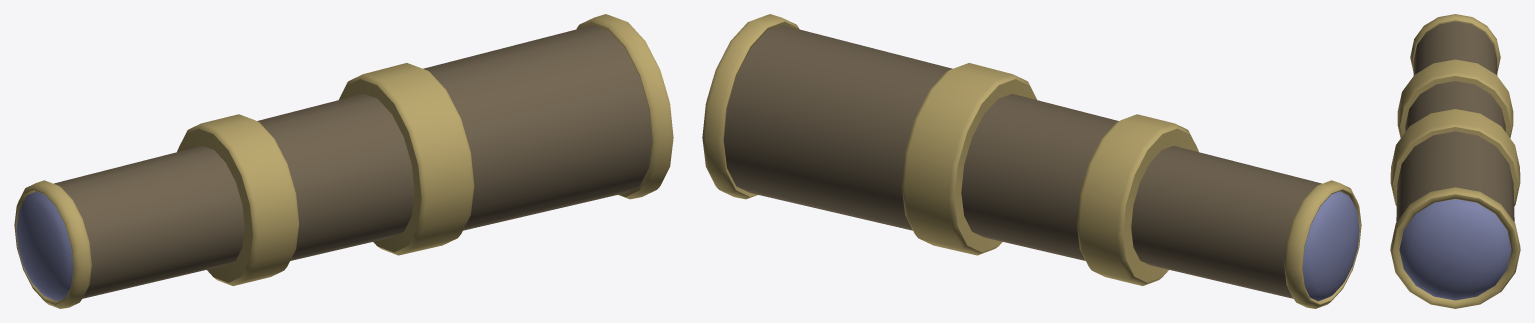
The model's file is Spyglass.fbx.
3 renders of one model, left to right at view 1: azimuth 30°, elevation 25°; view 2: azimuth 150°, elevation 25°; view 3: azimuth 270°, elevation 25°, orthographic. The views are drawn at different scales.
Visible parts, largest first — view 1: pSphere6; view 2: pSphere6; view 3: pSphere6.
Part boxes in pixels (left/top/right/bottom): pSphere6: left=14, top=14, right=673, bottom=308; pSphere6: left=702, top=14, right=1361, bottom=308; pSphere6: left=1390, top=14, right=1520, bottom=308.
Size of the model in its own units: 16.76 by 4.38 by 4.38.
